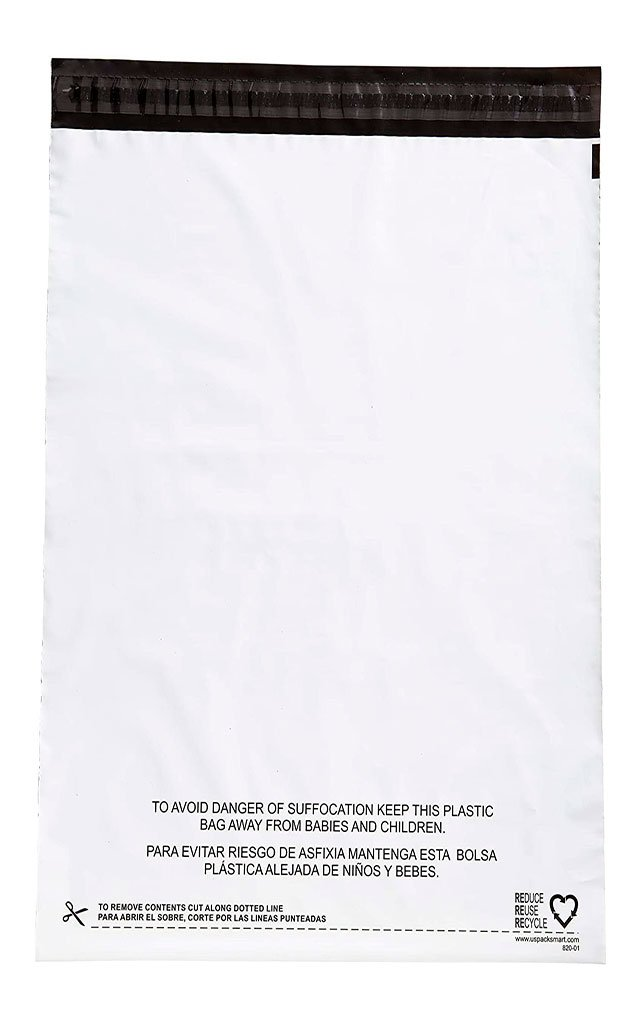塑料袋: (36, 57, 604, 962)
